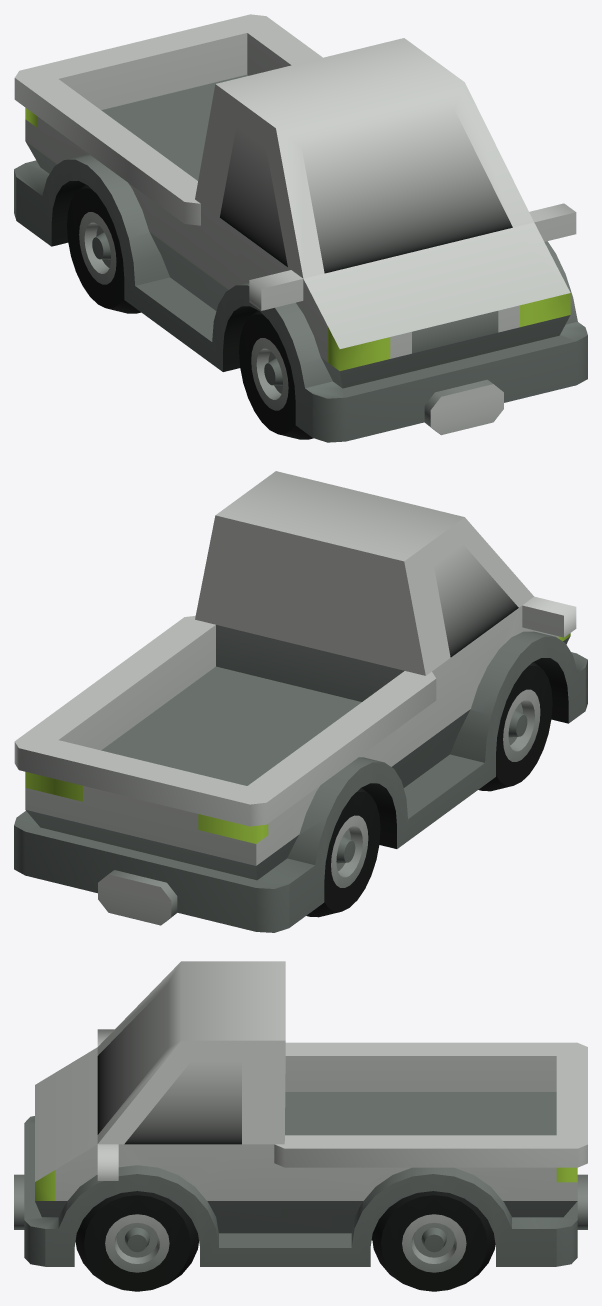
File: truck-flat.glb
3 views of the same model, one above another, from view 1: azimuth 30°, elevation 25°; view 2: azimuth 150°, elevation 25°; view 3: azimuth 270°, elevation 25° (orthographic). The views are drawn at different scales.
Parts seen in each view (by area): view 1: body, wheel-back-right, wheel-front-right; view 2: body, wheel-front-right, wheel-back-right; view 3: body, wheel-front-left, wheel-back-left.
Boxes of the visible parts, box(x1,y1,x2,y2) form: body: box(14, 14, 587, 442); wheel-back-right: box(67, 184, 140, 313); wheel-front-right: box(239, 310, 313, 439); body: box(14, 471, 587, 932); wheel-front-right: box(478, 662, 552, 791); wheel-back-right: box(306, 787, 380, 917); body: box(14, 961, 587, 1266); wheel-front-left: box(75, 1191, 198, 1291); wheel-back-left: box(372, 1191, 495, 1291).
Size of the model in its own units: 1.5 by 1.3 by 2.75.
